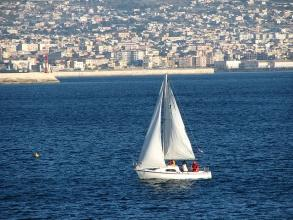fanchuan: (133, 71, 212, 182)
